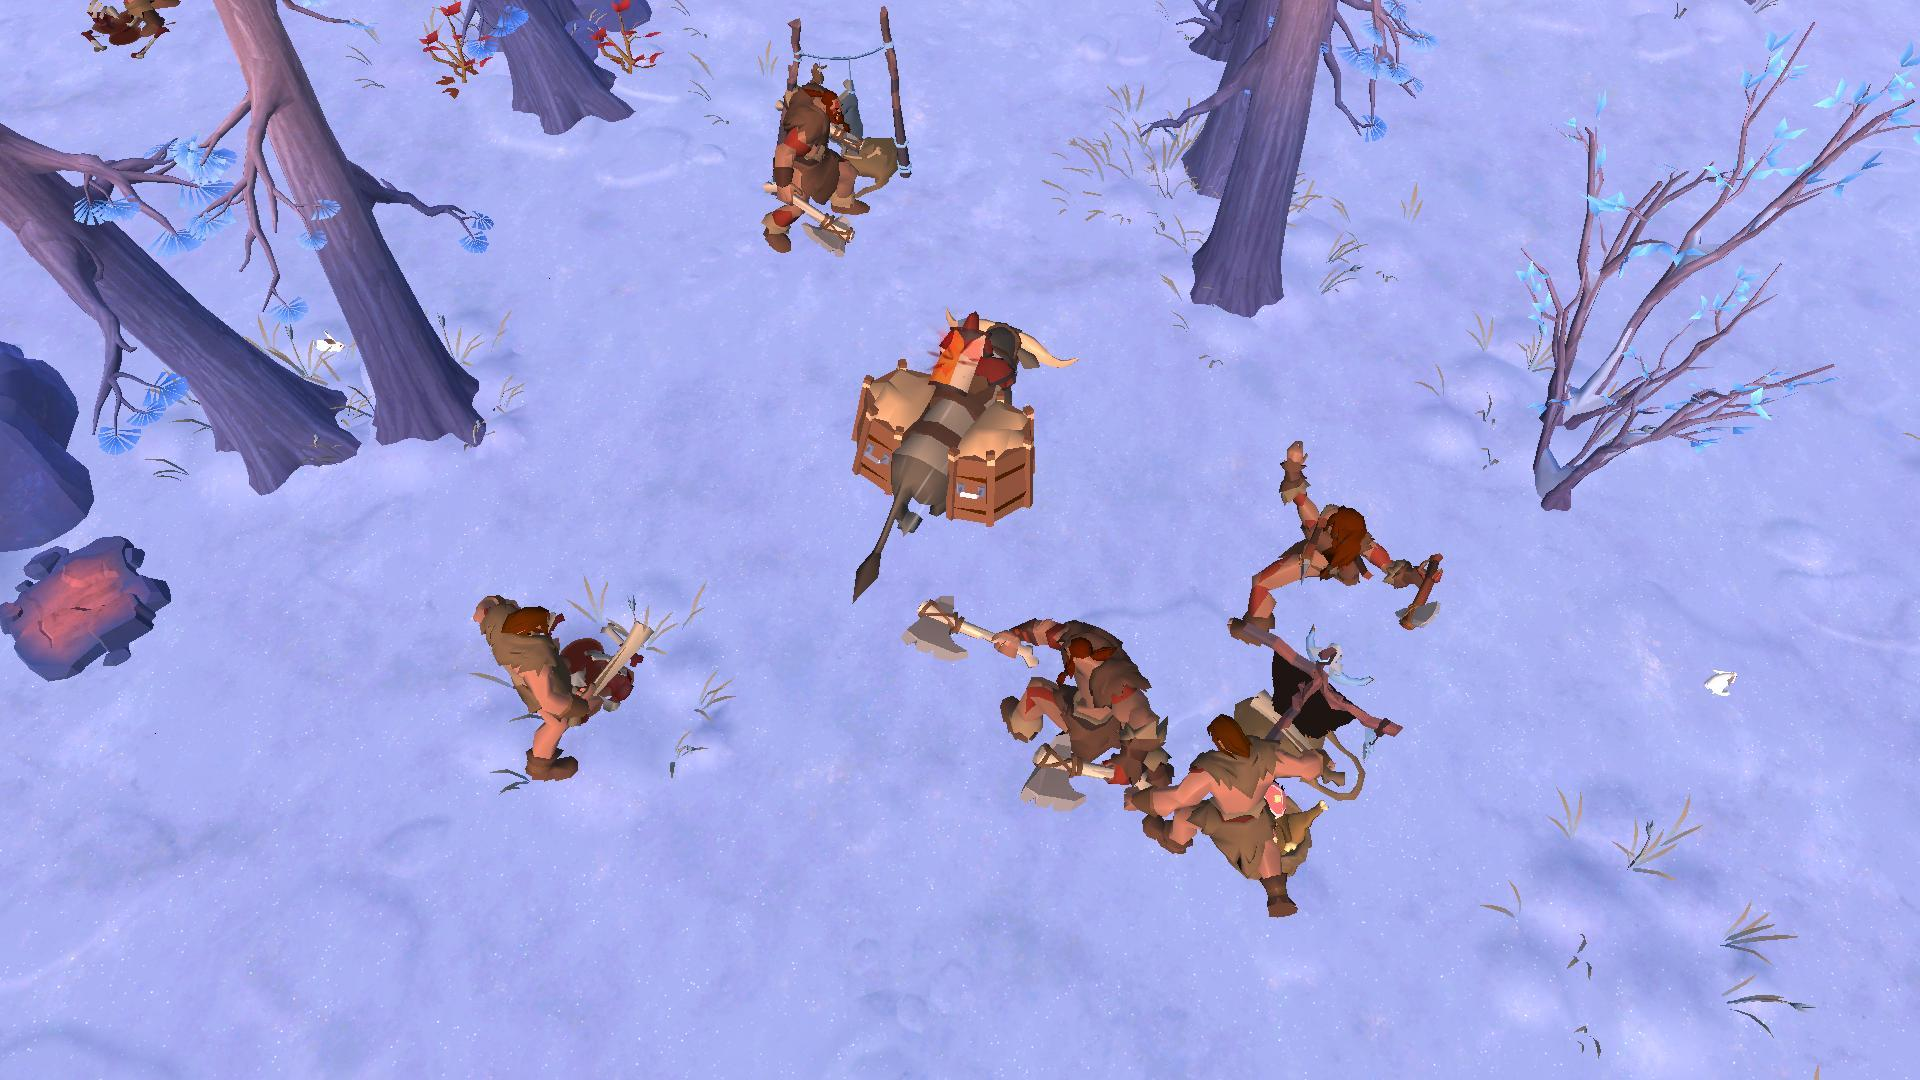enemy_factionKeeper: (918, 589, 1151, 825), (1222, 427, 1455, 647), (1142, 716, 1337, 923), (465, 580, 647, 774), (758, 80, 870, 244)
